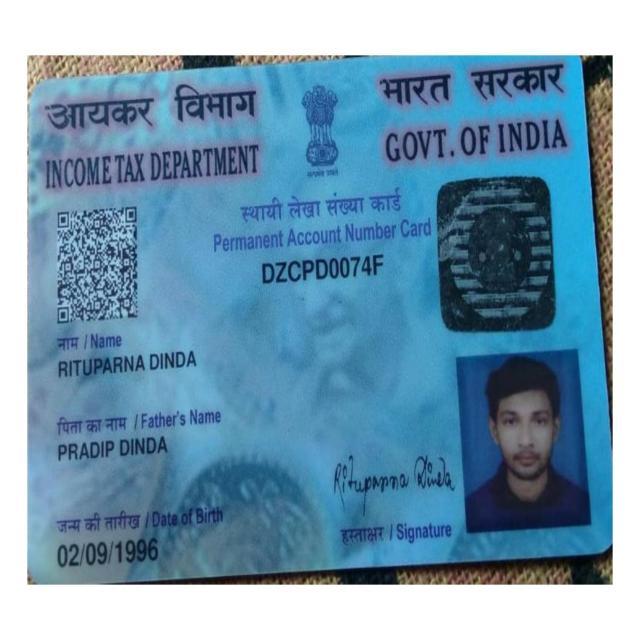pan_card: (28, 55, 613, 583)
